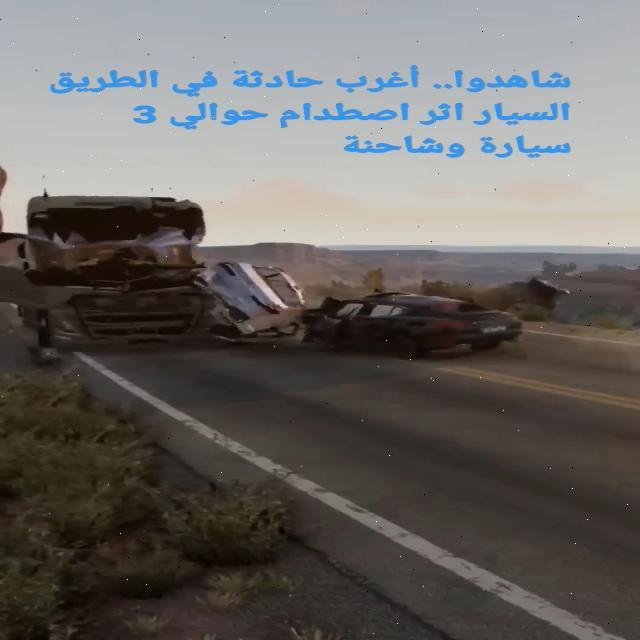accident: (11, 186, 549, 362)
